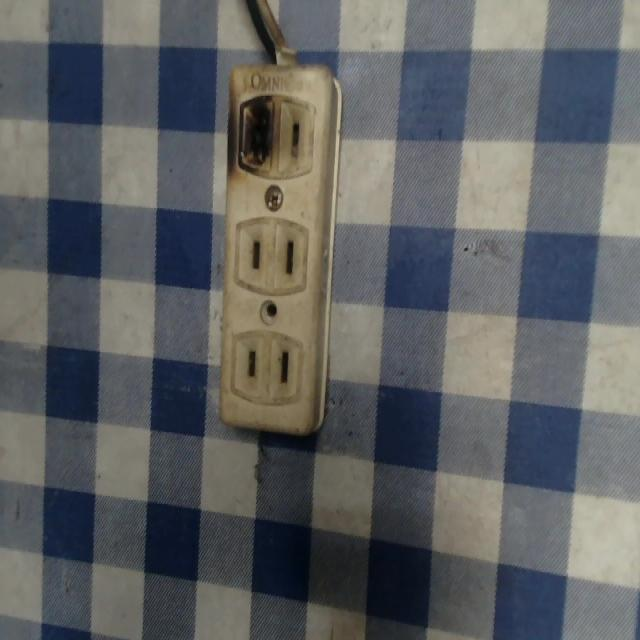-: (229, 91, 282, 185)
